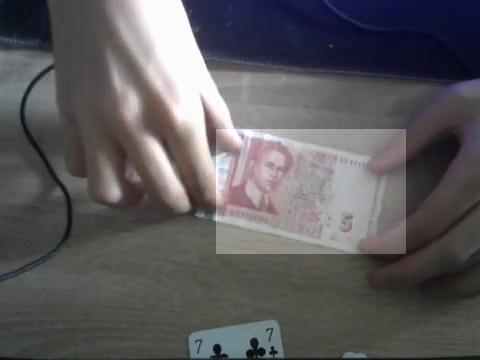5leva: (216, 129, 406, 254)
